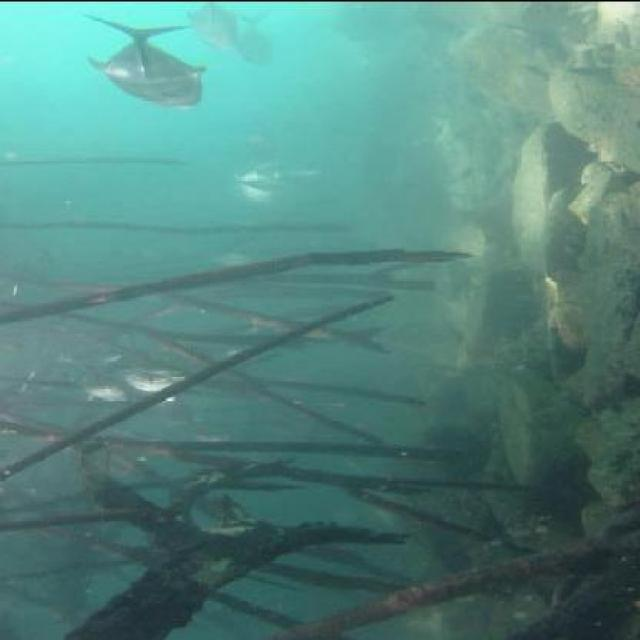Caranx_sexfasciatus_juvenile: (68, 12, 214, 116), (228, 145, 302, 212), (111, 354, 200, 406), (234, 0, 286, 66), (62, 355, 132, 403), (193, 0, 247, 48)
